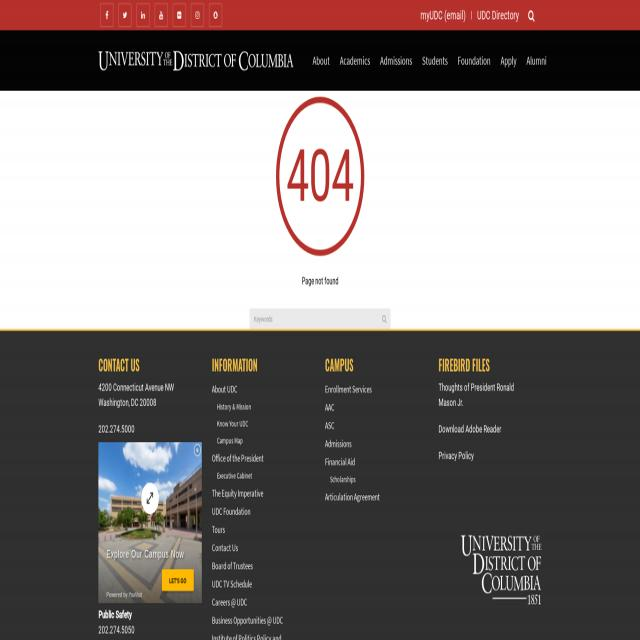button: (461, 535, 541, 605), (98, 51, 294, 71), (452, 30, 496, 91), (376, 30, 418, 91), (335, 29, 375, 90), (417, 30, 453, 91), (522, 30, 552, 91), (308, 30, 334, 91), (496, 30, 522, 91), (523, 4, 539, 28), (100, 3, 114, 28), (118, 3, 132, 28), (136, 3, 150, 28), (154, 3, 168, 28), (172, 3, 186, 28), (191, 3, 204, 28), (209, 3, 222, 28), (378, 308, 390, 329)
field: (250, 308, 390, 329)
